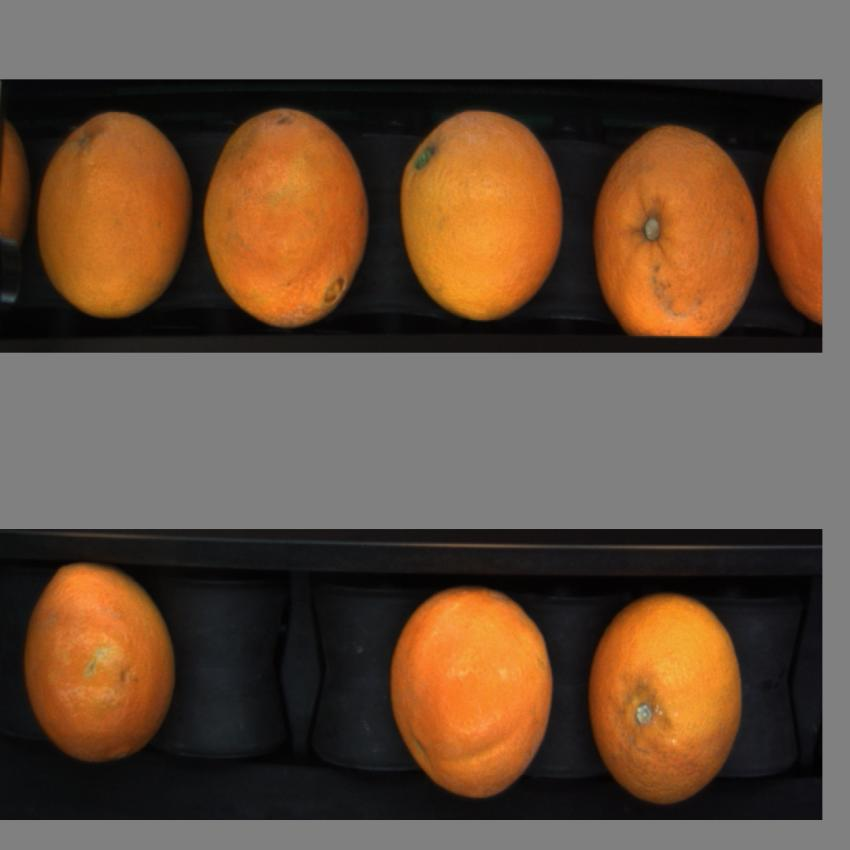Buen estado: (373, 570, 563, 808), (20, 551, 203, 777), (198, 101, 374, 331), (586, 115, 758, 348), (393, 101, 565, 330), (582, 585, 754, 808), (30, 101, 195, 327), (760, 91, 822, 336)
